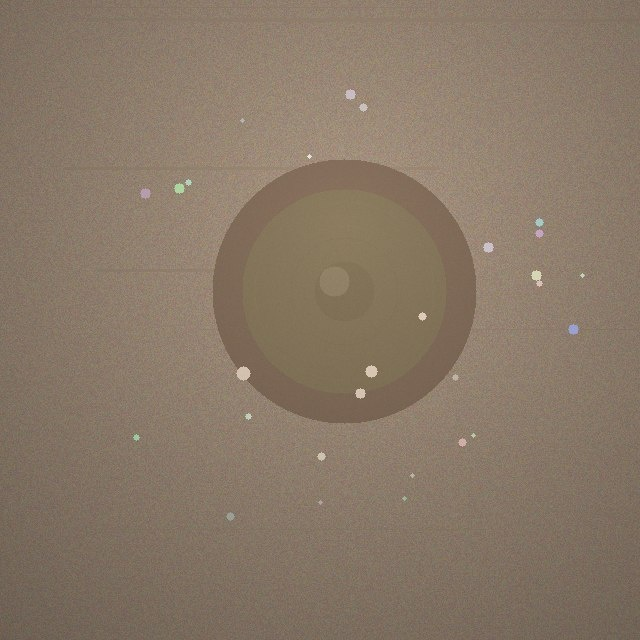overburn: (212, 159, 476, 423)
